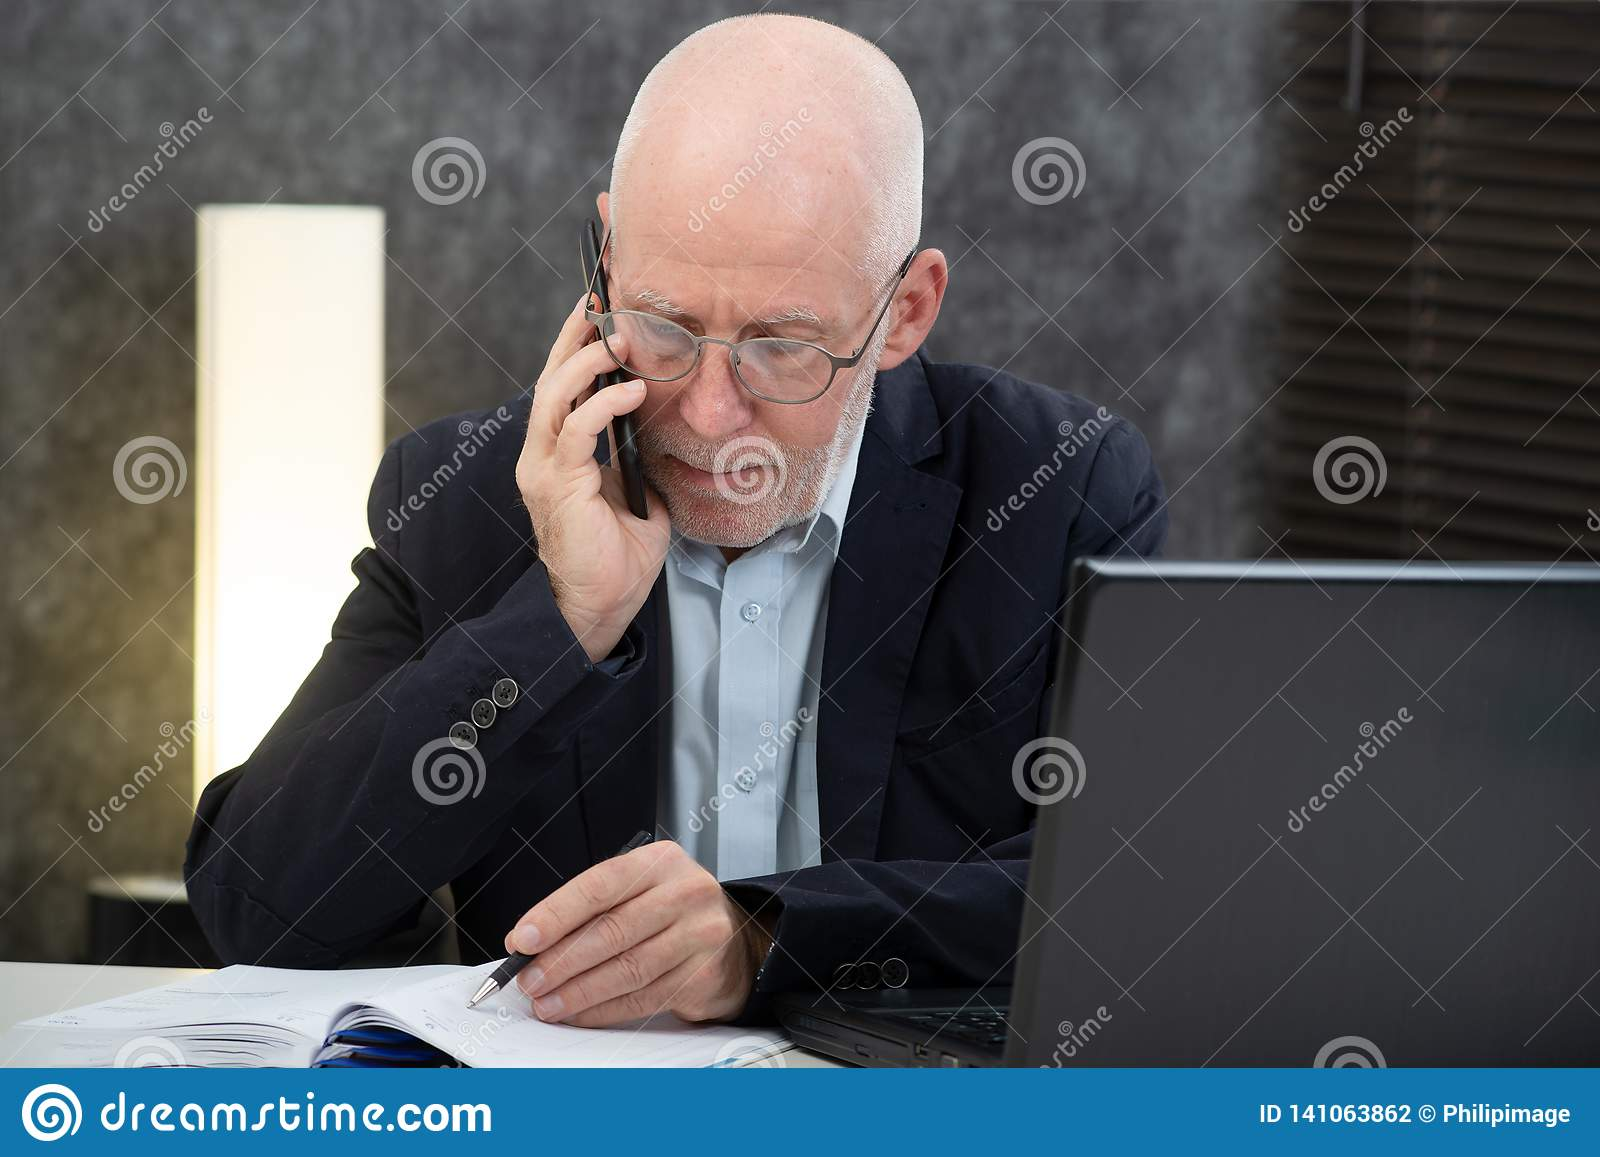phone: (564, 216, 653, 527)
talk: (509, 170, 873, 659)
